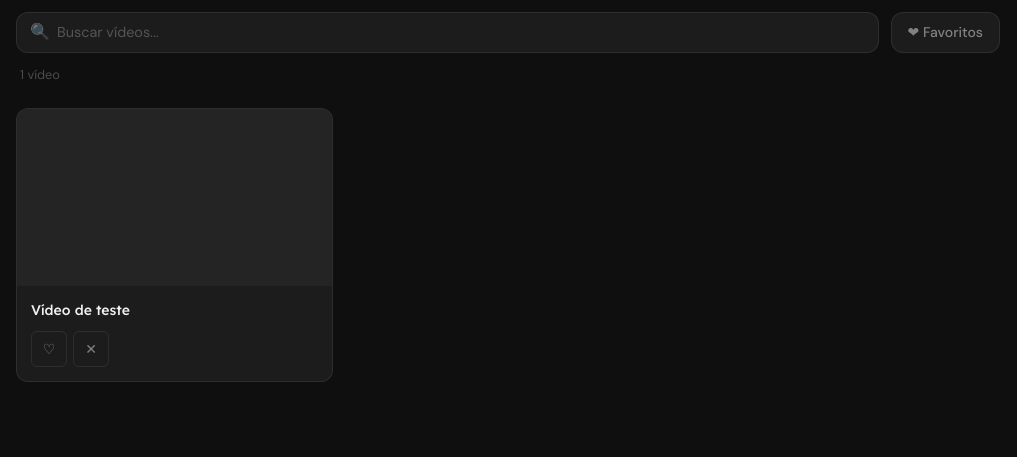
Test: VideoList - favoritos e exclusão › clicar em ocultar exibe confirmação inline
What coordinates should you click on to do the following:
click the button named "ocultar"
I would click on:
 (91, 349)
Its box is 73,331 -> 109,367.
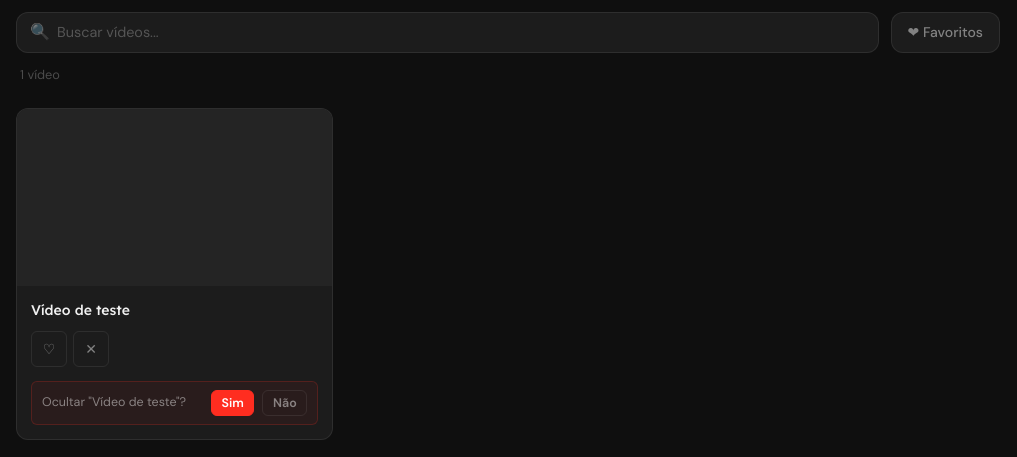
Now the button with aria-label "confirmar ocultar" is shown, box 211,390 -> 254,416
Now the button with aria-label "cancelar" is shown, box 262,390 -> 307,416
